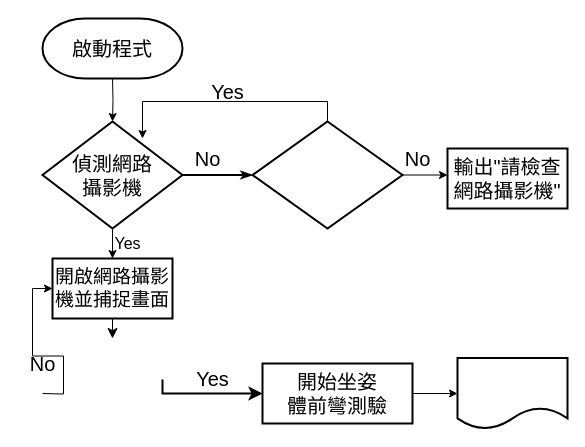
This 585x447 diagram has some shape labels left out. Each missing label, with the centre of its shape:
檢查網路 攝影機: [327,174]
輸出結果: [512,393]
